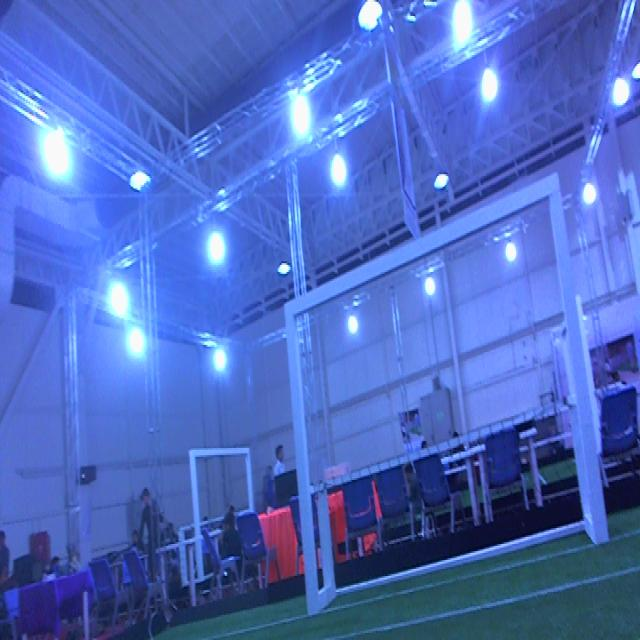goalpost: (544, 174, 608, 546), (283, 302, 319, 615)
